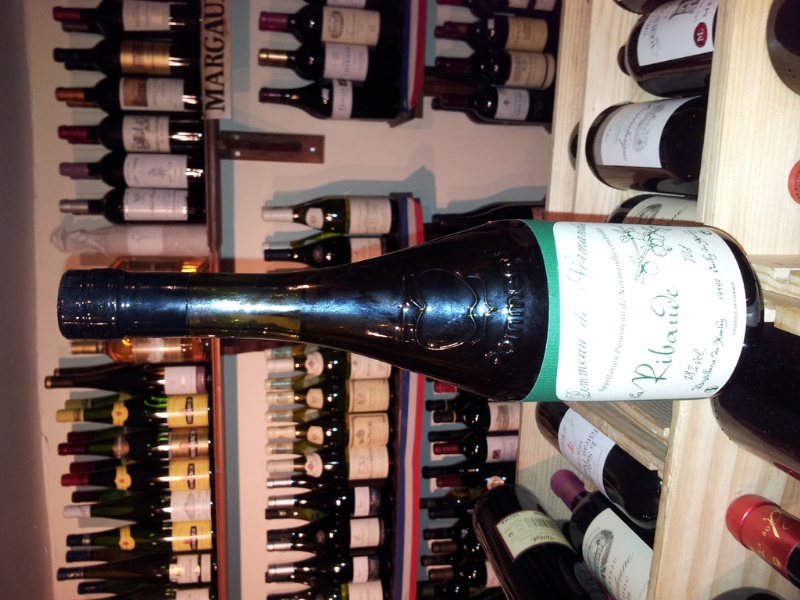wine: (40, 3, 799, 600), (56, 218, 765, 406)
